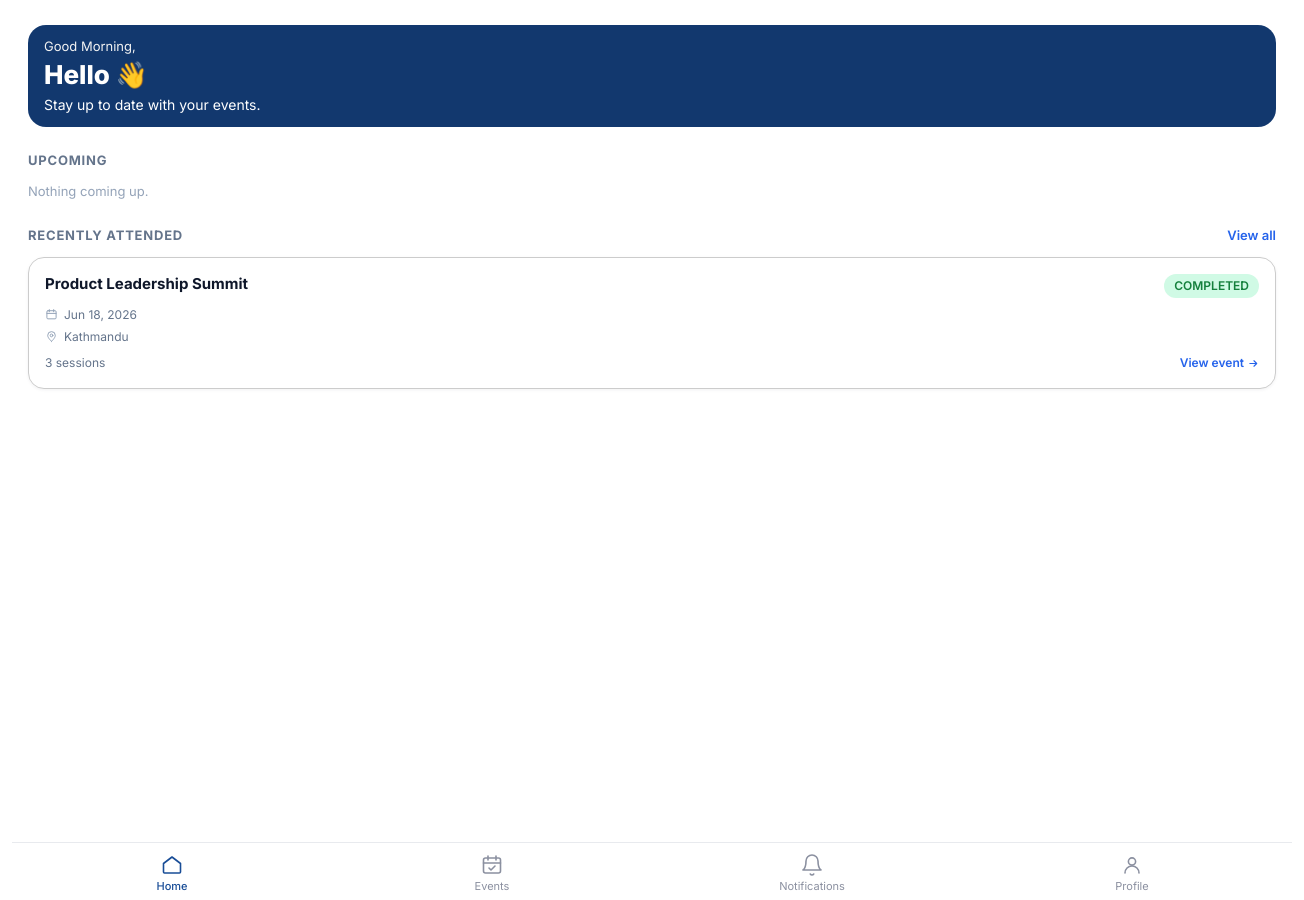
it: the events list › renders completed events with questions and summary availability
The width and height of the screenshot is (1304, 900).
Check: the navigation bar named "Sections" is shown, box x1=12 y1=842 x2=1292 y2=899
Click the button "Events": {"x": 492, "y": 872} x1=332 y1=843 x2=652 y2=899
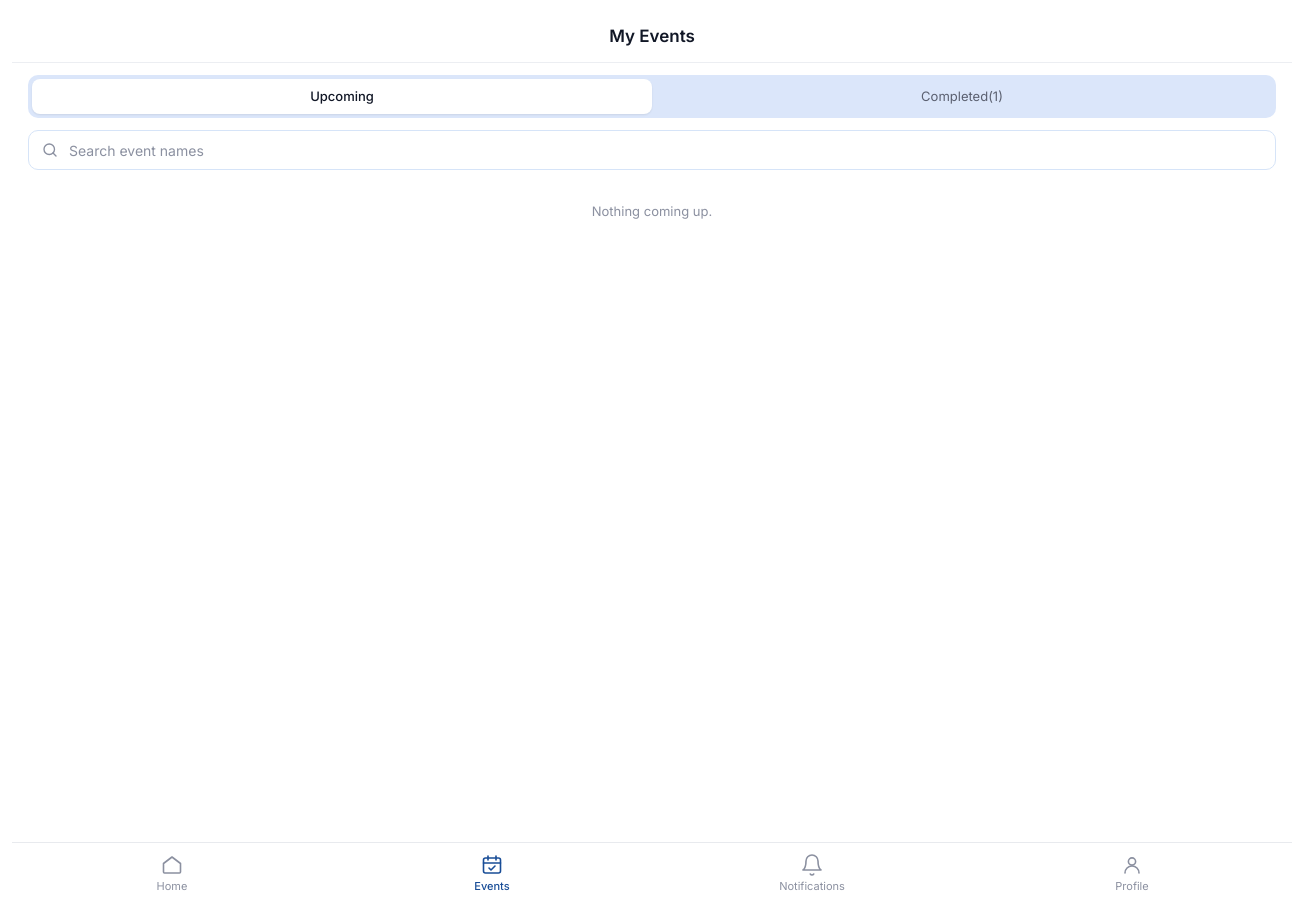
Click the button "Completed(1)": {"x": 962, "y": 96} x1=652 y1=78 x2=1272 y2=114
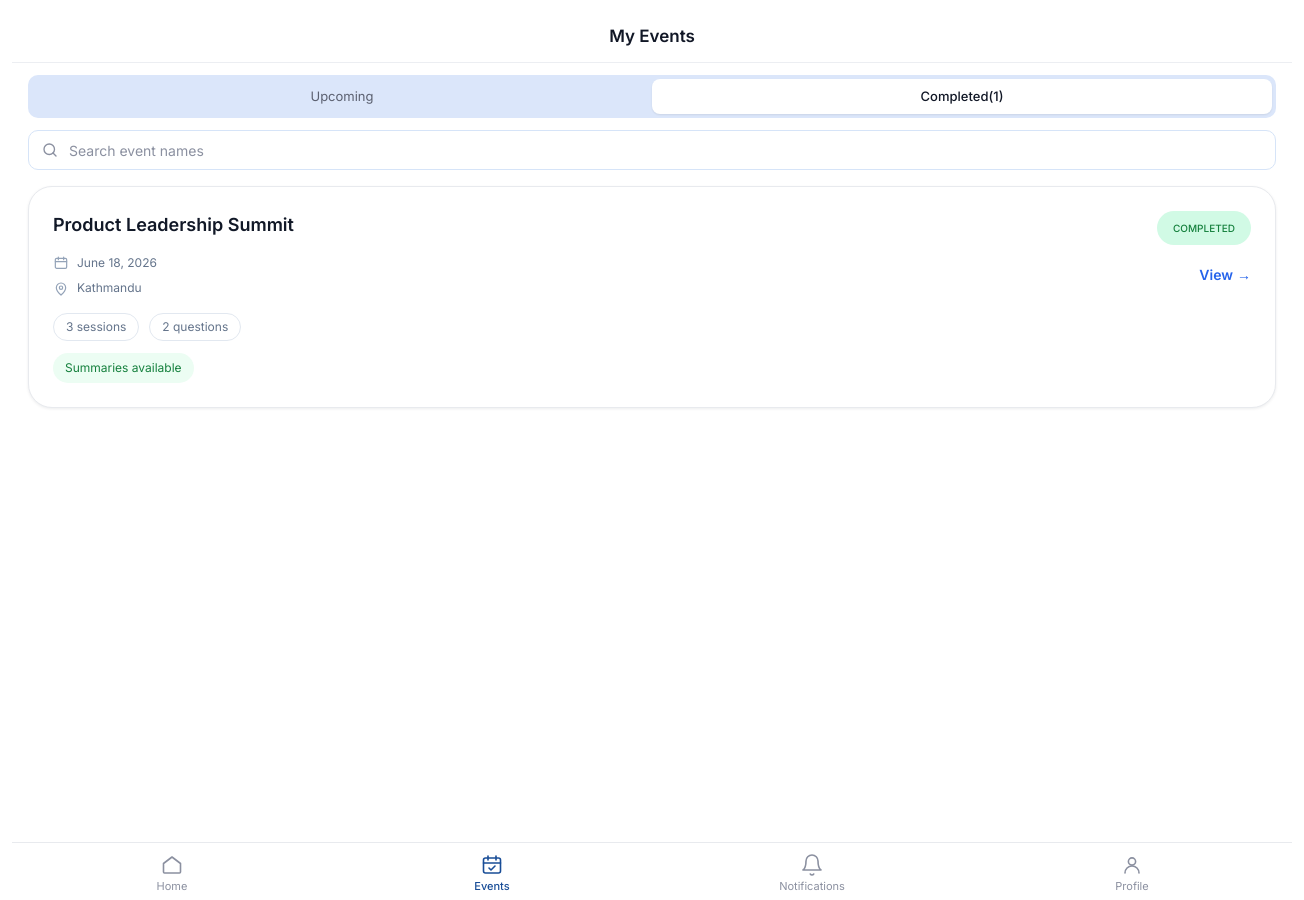
Check: the heading "Product Leadership Summit" is shown, box x1=53 y1=211 x2=294 y2=238
Check: the text "June 18, 2026" is shown, box x1=77 y1=254 x2=157 y2=272
Check: the text "Kathmandu" is shown, box x1=77 y1=279 x2=142 y2=297
